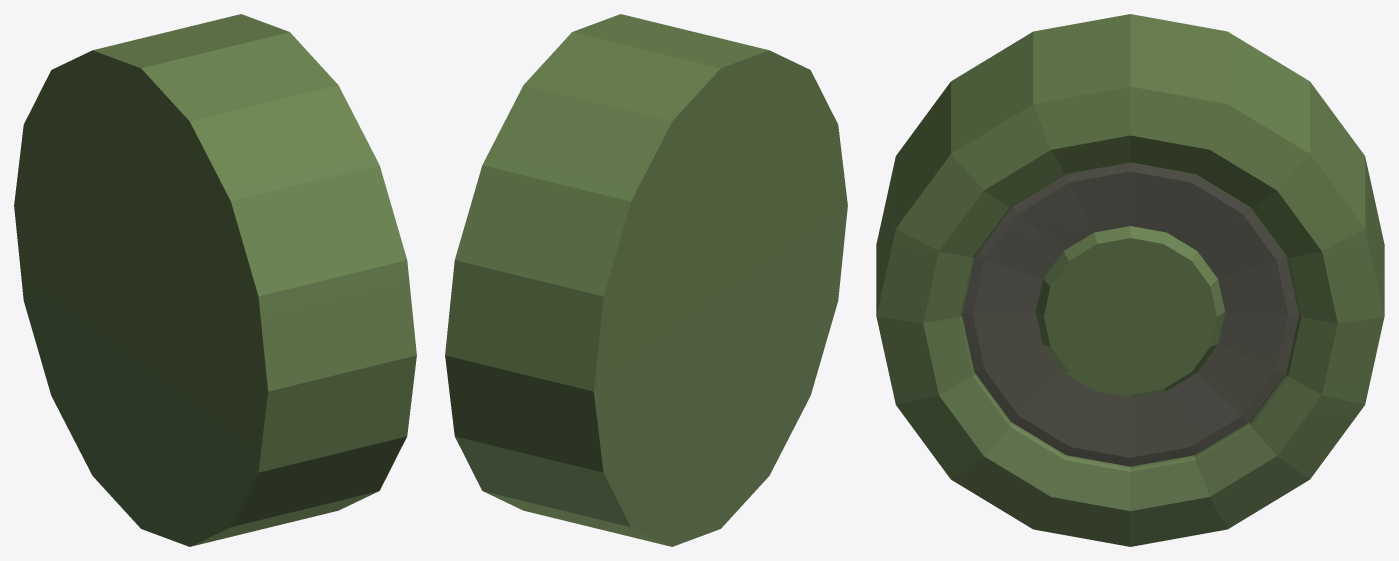
Rendered from Wheel_04.fbx.
The picture shows the model from 3 angles, left to right: view 1: azimuth 30°, elevation 25°; view 2: azimuth 150°, elevation 25°; view 3: azimuth 270°, elevation 25°; orthographic projection.
Visible parts, largest first — view 1: Wheel_04; view 2: Wheel_04; view 3: Wheel_04.
Boxes of the visible parts, box(x1,y1,x2,y2) form: Wheel_04: box(14, 14, 416, 546); Wheel_04: box(445, 14, 847, 546); Wheel_04: box(876, 14, 1384, 546).
Bounding box in the file's own units: 0.4736 × 1.28 × 1.28.
